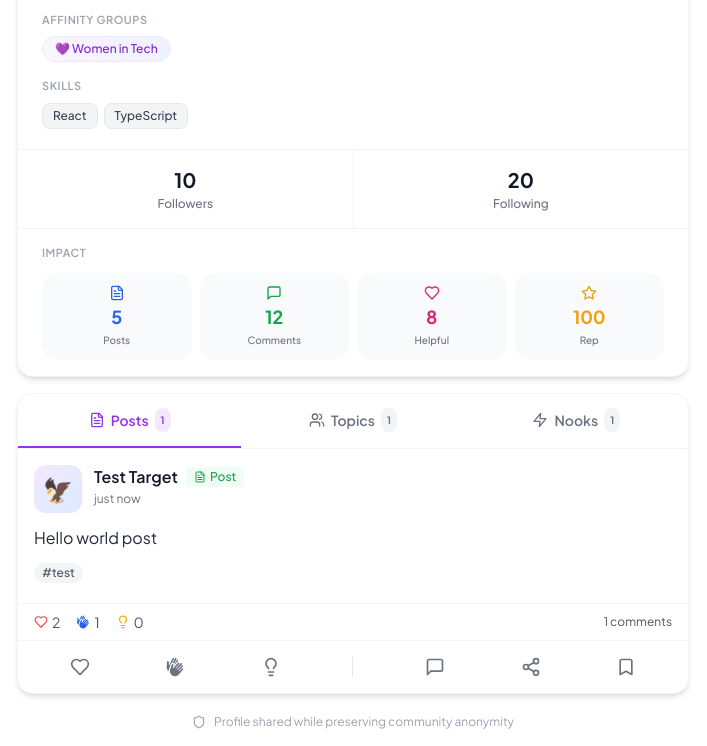
Test case: UserProfilePage › switches to nooks tab and shows nooks
The width and height of the screenshot is (707, 746).
(page scrolled)
Step 1. Click the button "Nooks 1" → [576, 421], box [465, 394, 688, 448]
(page scrolled)
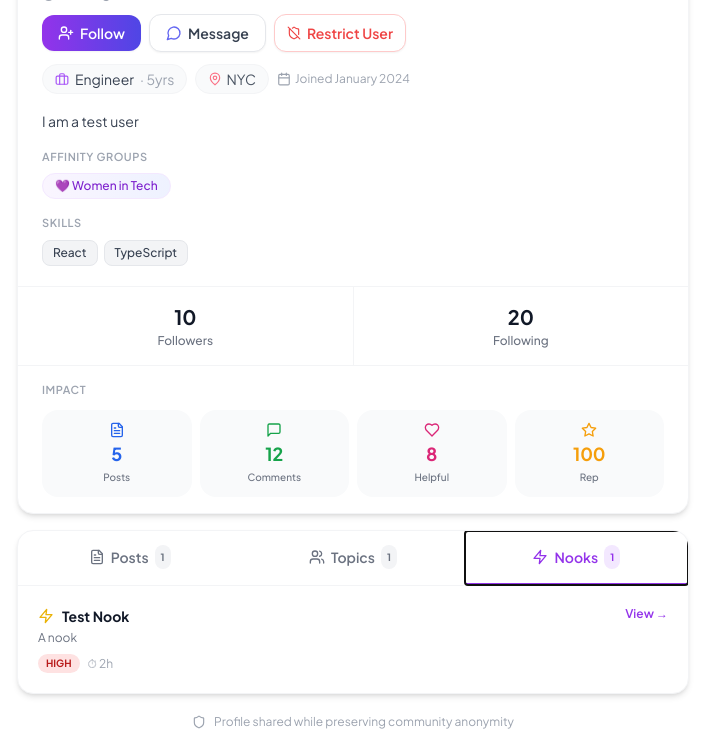
Check: the heading "Test Nook" is shown, box [62, 606, 129, 626]
